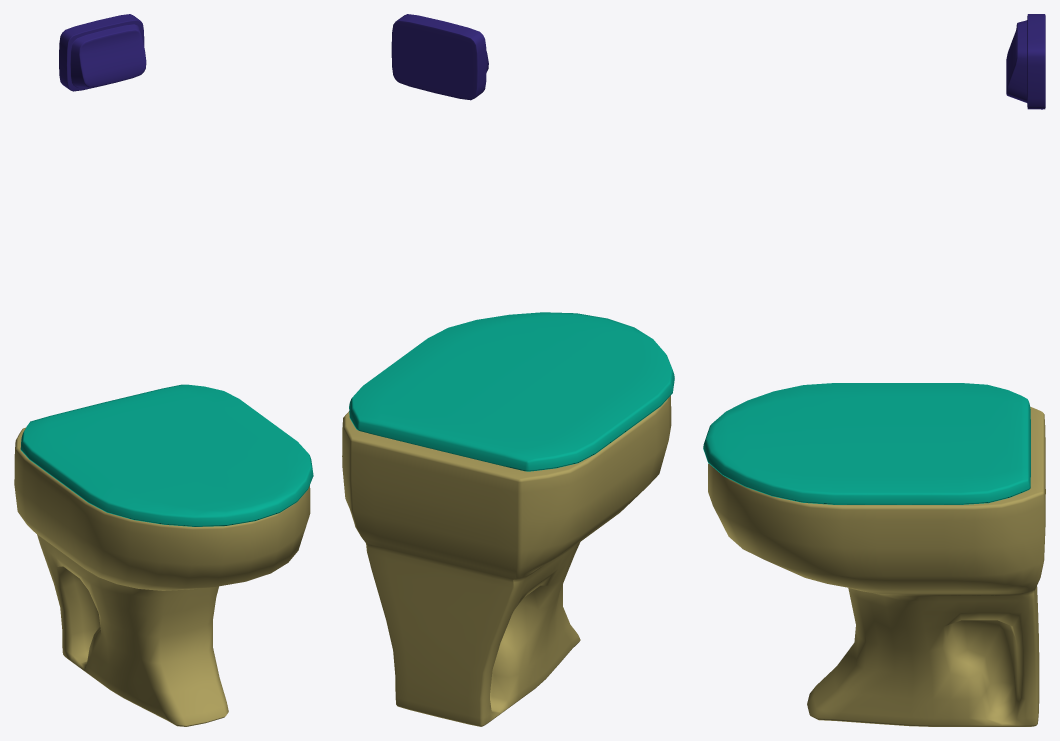
Rendered from PROP_VasoSanitario.fbx.
The picture shows the model from 3 angles, left to right: view 1: azimuth 30°, elevation 25°; view 2: azimuth 150°, elevation 25°; view 3: azimuth 270°, elevation 25°; orthographic projection. The views are drawn at different scales.
Parts seen in each view (by area): view 1: VasoSanitario, AssentoTampa, Descarga; view 2: VasoSanitario, AssentoTampa, Descarga; view 3: VasoSanitario, AssentoTampa, Descarga.
Part boxes in pixels (x1=…): VasoSanitario: x1=14, y1=427, x2=310, y2=726; AssentoTampa: x1=20, y1=384, x2=313, y2=526; Descarga: x1=59, y1=14, x2=146, y2=91; VasoSanitario: x1=342, y1=395, x2=671, y2=726; AssentoTampa: x1=349, y1=312, x2=674, y2=471; Descarga: x1=391, y1=14, x2=488, y2=100; VasoSanitario: x1=708, y1=407, x2=1045, y2=726; AssentoTampa: x1=703, y1=383, x2=1030, y2=504; Descarga: x1=1006, y1=14, x2=1045, y2=109.
Bounding box in the file's own units: 3.75 × 10.52 × 4.82.
